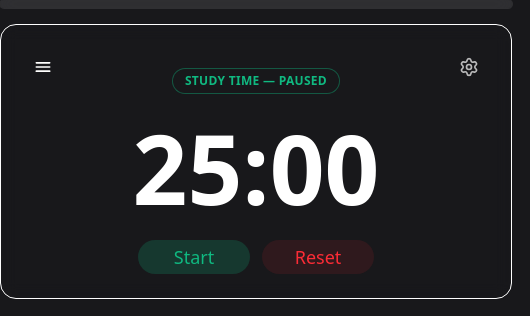
it: Timer › shows Pause button when timer is running
// Start the timer
What coordinates should you click on to do the following:
click the button "Start"
I would click on:
 (194, 257)
Its box is [138,240,250,274].
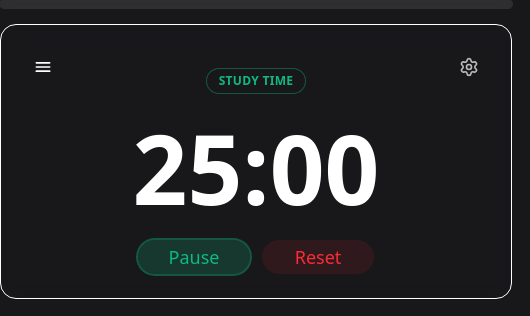
Expected: the button "Pause" is shown, [138,240,250,274]
